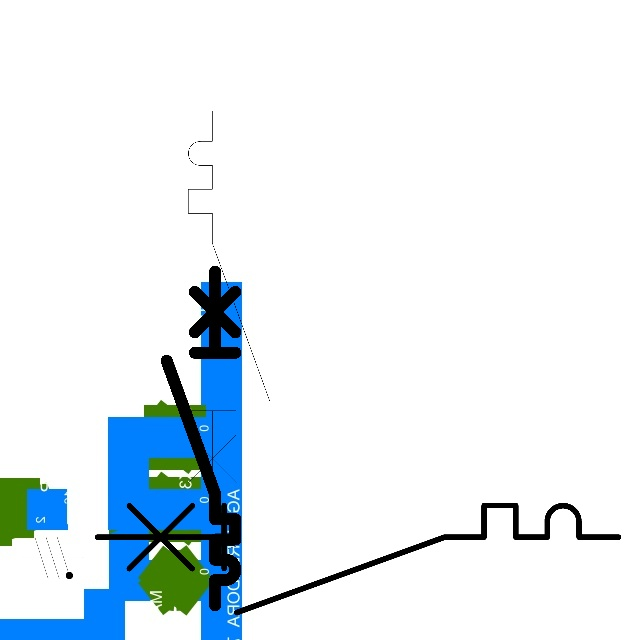interruptor_termomagnetico: (84, 492, 632, 626), (178, 101, 279, 517), (158, 263, 244, 614)
